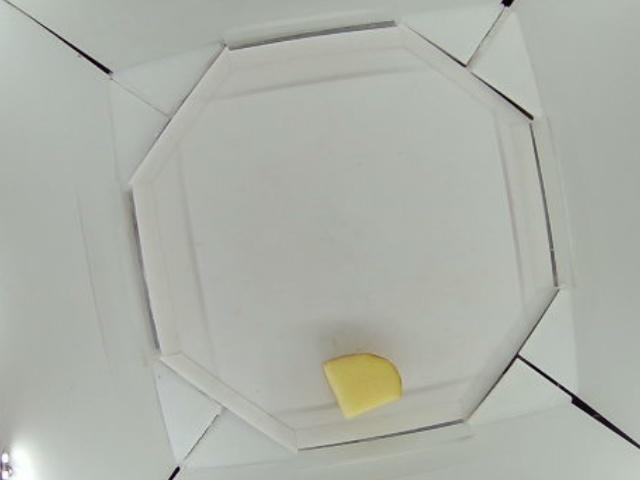Potato: (323, 352, 404, 416)
